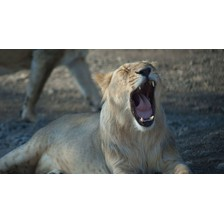lion: (0, 60, 192, 174)
